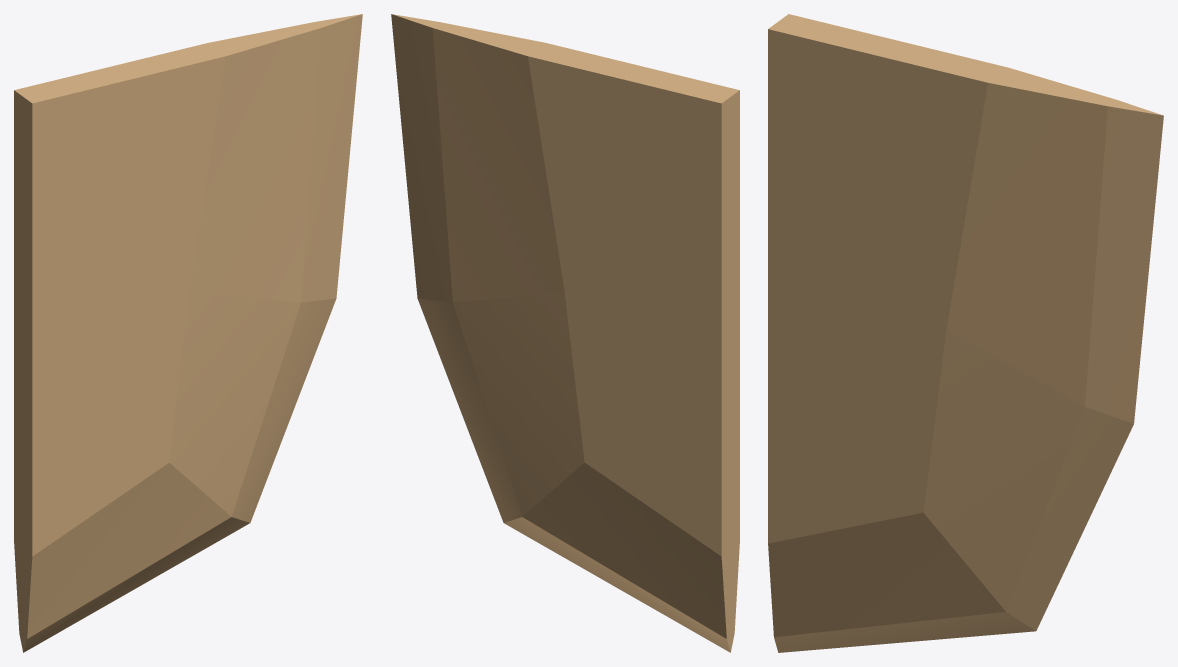
File: Tribal_Plains_Tent_Door_Curtain_Hide_01.fbx
3 views of the same model, side by side, from view 1: azimuth 30°, elevation 25°; view 2: azimuth 150°, elevation 25°; view 3: azimuth 330°, elevation 25° (orthographic). The views are drawn at different scales.
Parts seen in each view (by area): view 1: Tribal_Plains_Tent_Door_Curtain_Hide_01; view 2: Tribal_Plains_Tent_Door_Curtain_Hide_01; view 3: Tribal_Plains_Tent_Door_Curtain_Hide_01.
Part boxes in pixels (box(x1,y1,x2,y2)): Tribal_Plains_Tent_Door_Curtain_Hide_01: box(14, 14, 362, 652); Tribal_Plains_Tent_Door_Curtain_Hide_01: box(391, 14, 739, 652); Tribal_Plains_Tent_Door_Curtain_Hide_01: box(768, 14, 1163, 652).
Size of the model in its own units: 1.91 by 2.98 by 0.1771.
